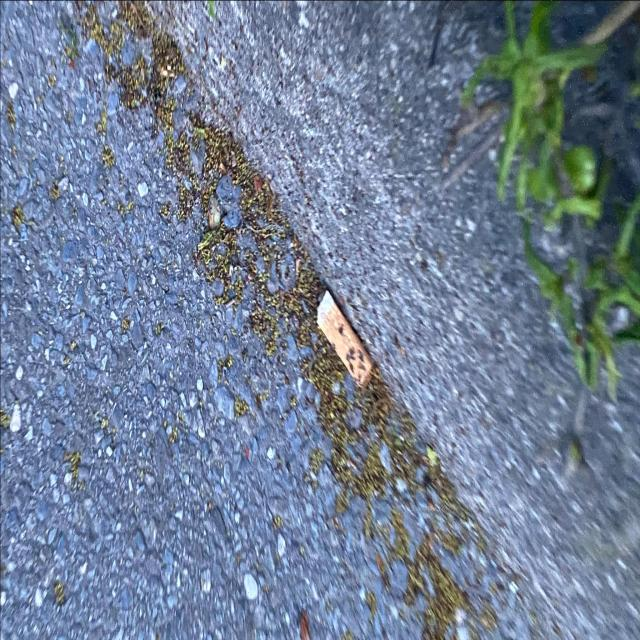other waste: (316, 288, 374, 389)
